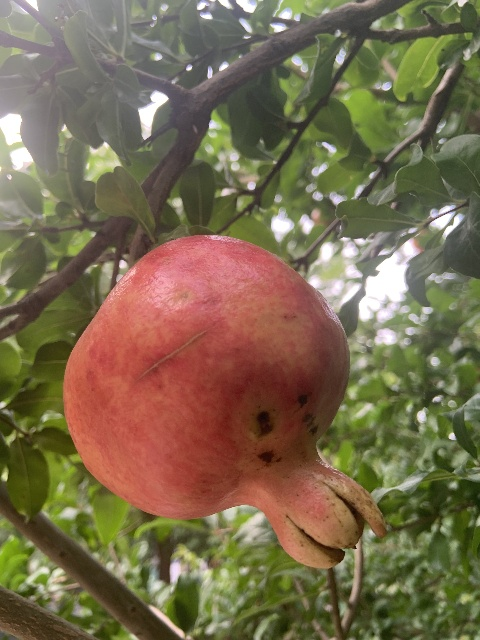ripe: (63, 234, 387, 570)
